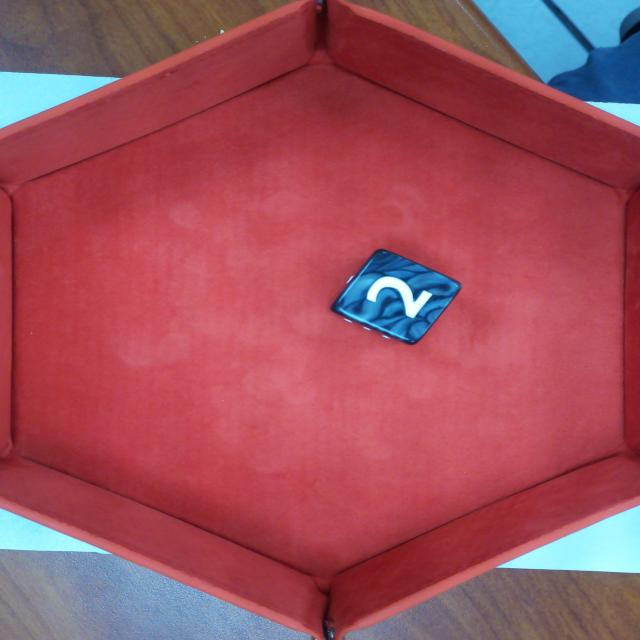dice: (326, 245, 467, 348)
